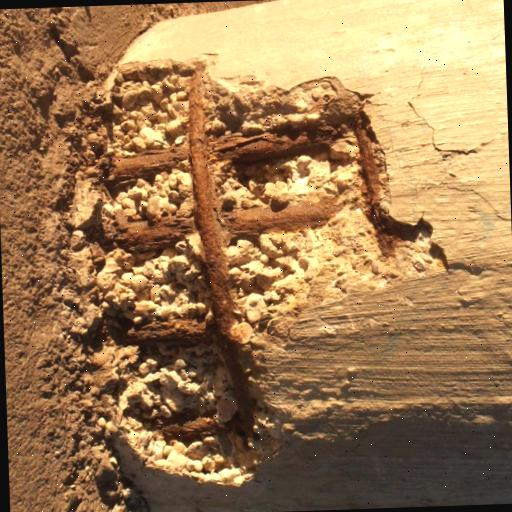spalling: (91, 54, 448, 490)
